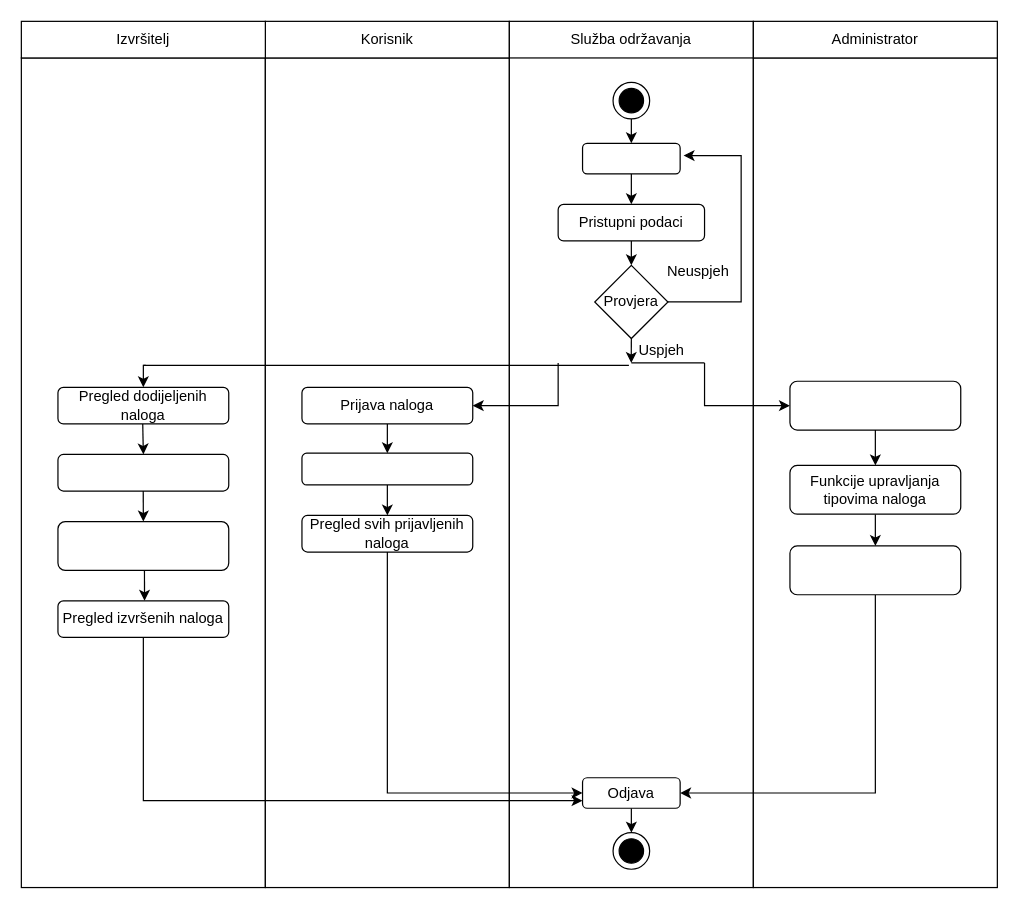
This 1019x909 diagram has some shape labels left out. The shapes that lost their labels are listed below. From the top down, each one's centre as x and y in pixels, then its label:
At point 630,158: "Prijava".
At point 875,405: "Funkcije upravljanja zaposlenicima".
At point 143,472: "Rad na nalogu".
At point 387,468: "Uređivanje naloga".
At point 143,545: "Unos i obrada izvještaja".
At point 875,570: "Pregled svih naloga".
